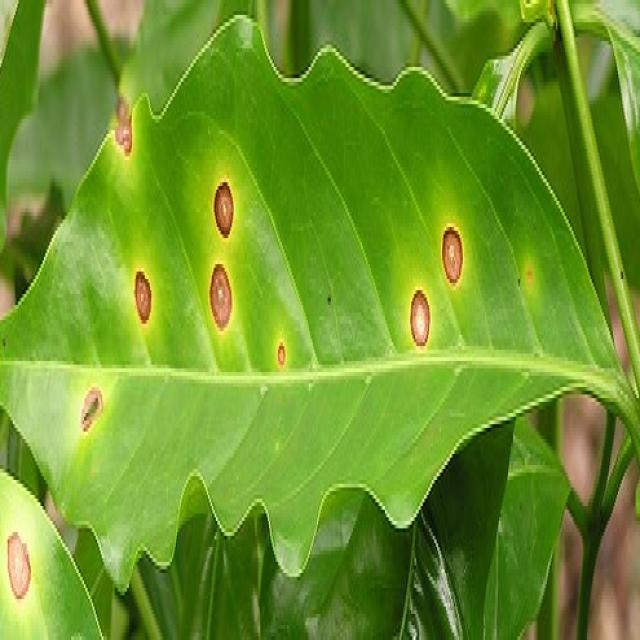Enfermedad-Mancha-de-hierro: (0, 15, 640, 595)
